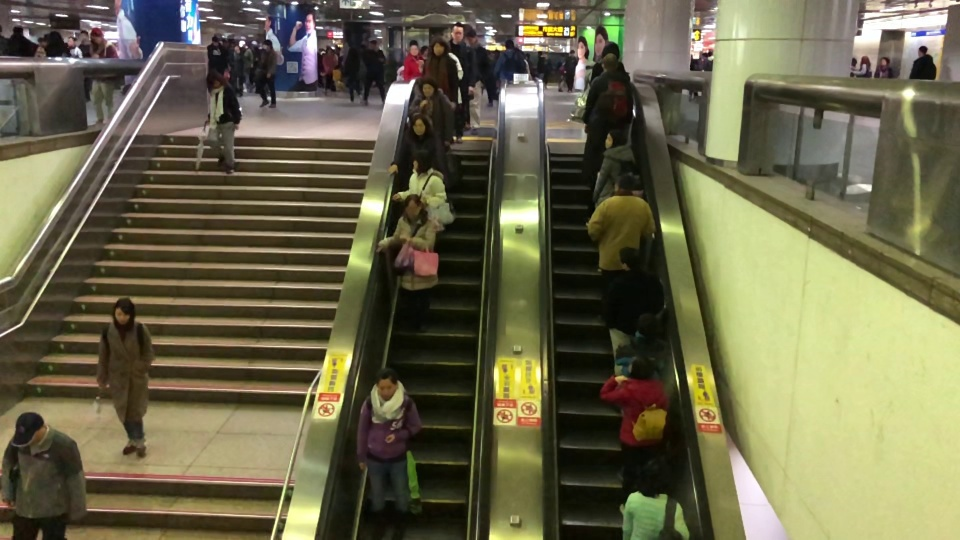person_head: (637, 460, 669, 497), (14, 411, 45, 444), (374, 367, 399, 401), (112, 297, 136, 324), (618, 246, 642, 270), (635, 314, 659, 336), (630, 357, 654, 379), (604, 128, 629, 148), (412, 149, 432, 171), (404, 193, 423, 216), (409, 114, 429, 135), (595, 91, 615, 112), (418, 76, 437, 97), (613, 174, 635, 192), (601, 42, 620, 61), (599, 53, 618, 72), (431, 36, 448, 54), (207, 70, 223, 88), (451, 23, 464, 42), (90, 28, 104, 45), (464, 28, 478, 45), (48, 31, 62, 44), (12, 24, 24, 36), (262, 39, 273, 51), (409, 42, 419, 55), (347, 47, 357, 59), (67, 36, 77, 47), (917, 45, 928, 55), (861, 55, 870, 65), (880, 56, 890, 65), (80, 31, 89, 40), (504, 39, 513, 48), (369, 39, 377, 49), (421, 45, 429, 55), (210, 36, 218, 43), (851, 56, 857, 65), (569, 50, 576, 56), (326, 47, 332, 52), (702, 53, 707, 59)
person_vbox: (353, 367, 421, 540), (599, 357, 669, 518), (0, 411, 86, 540), (586, 175, 656, 325), (95, 296, 156, 461), (375, 193, 440, 334), (602, 246, 664, 376), (620, 460, 689, 540), (580, 91, 616, 223), (592, 128, 644, 203), (582, 53, 634, 126), (206, 71, 242, 176), (613, 314, 673, 377), (387, 114, 446, 177), (447, 22, 476, 145), (409, 76, 455, 148), (391, 149, 447, 207), (89, 28, 120, 123), (417, 36, 459, 104), (463, 29, 488, 136), (361, 39, 387, 108), (589, 42, 627, 82), (257, 39, 278, 108), (494, 38, 524, 81), (342, 47, 361, 102), (908, 45, 937, 80), (79, 31, 93, 102), (402, 42, 423, 81), (9, 25, 34, 57), (322, 46, 337, 95), (206, 37, 225, 74), (45, 32, 69, 57), (564, 49, 577, 92), (850, 55, 871, 78), (873, 56, 893, 78), (67, 36, 82, 59), (699, 53, 712, 71), (849, 57, 856, 77)
